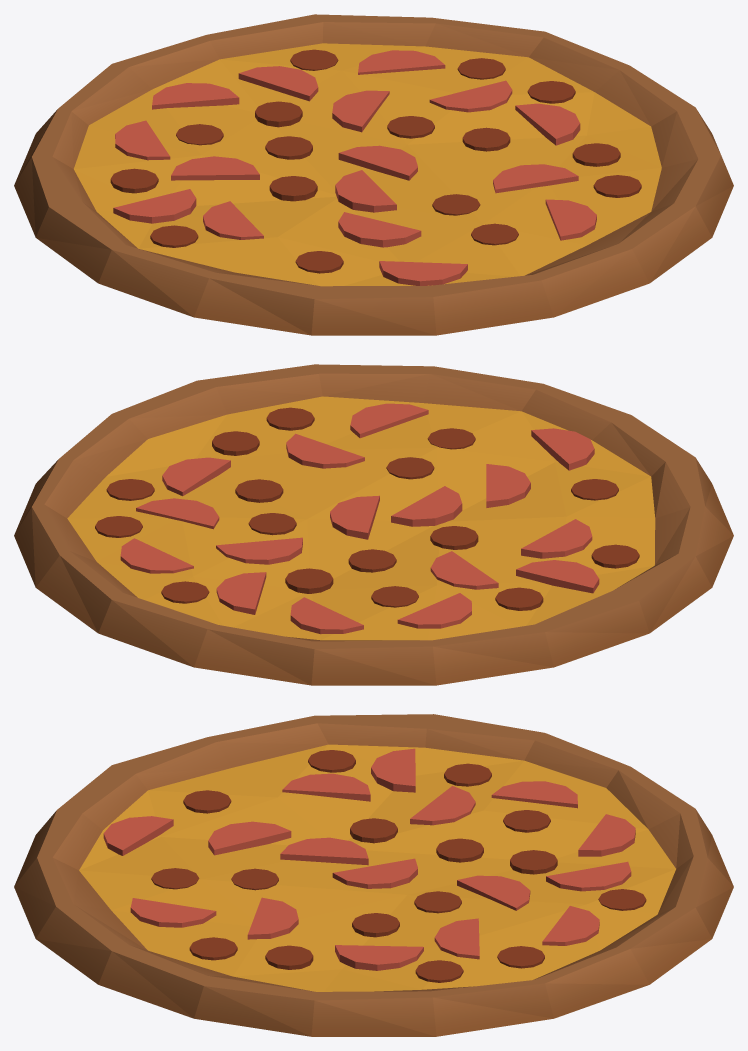
Rendered from SM_Food_Pizza_03.fbx.
3 renders of one model, top to bottom at view 1: azimuth 30°, elevation 25°; view 2: azimuth 150°, elevation 25°; view 3: azimuth 270°, elevation 25°, orthographic.
Visible parts, largest first — view 1: SM_Food_Pizza_03; view 2: SM_Food_Pizza_03; view 3: SM_Food_Pizza_03.
Boxes of the visible parts, x1,y1,x2,y2 form: SM_Food_Pizza_03: [14, 14, 733, 335]; SM_Food_Pizza_03: [14, 364, 733, 685]; SM_Food_Pizza_03: [14, 714, 733, 1036].
Size of the model in its own units: 0.2992 by 0.0134 by 0.3038.
